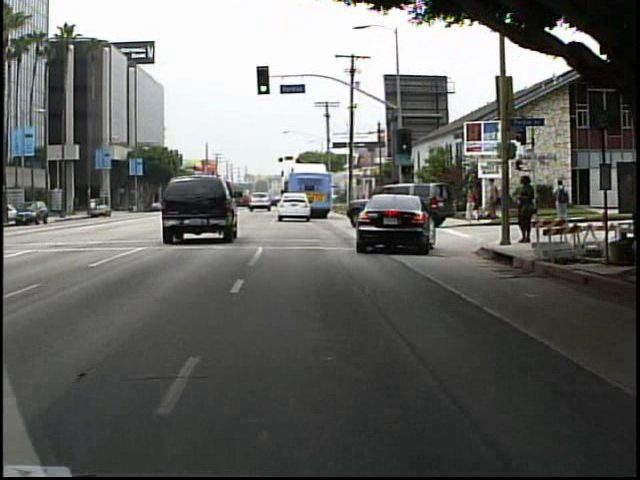person: (513, 171, 537, 251), (462, 180, 485, 228), (552, 179, 574, 221), (485, 178, 499, 222)
